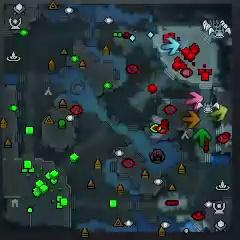x1: (186, 91, 204, 109)
x2: (210, 103, 228, 122)
x3: (162, 37, 180, 55)
x4: (194, 127, 212, 147)
x5: (183, 110, 200, 128)
